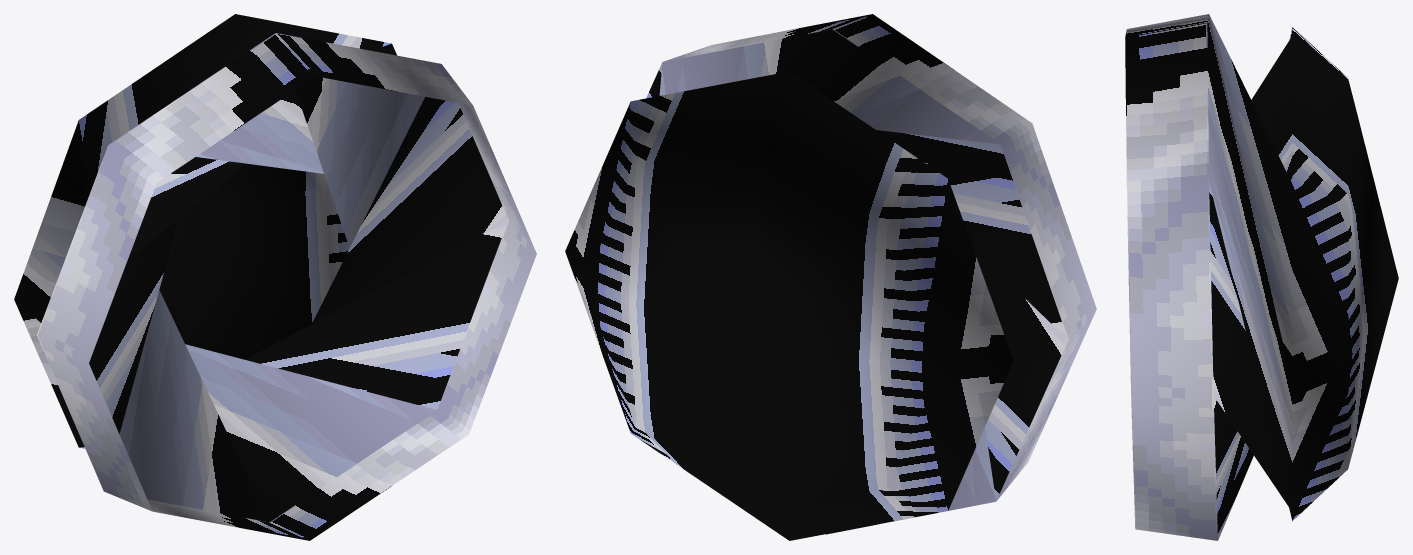
3 renders of one model, left to right at view 1: azimuth 30°, elevation 25°; view 2: azimuth 150°, elevation 25°; view 3: azimuth 270°, elevation 25°, orthographic. The views are drawn at different scales.
Parts seen in each view (by area): view 1: 4830fish40_r; view 2: 4830fish40_r; view 3: 4830fish40_r.
Boxes of the visible parts, x1,y1,x2,y2 form: 4830fish40_r: (14,14,536,540); 4830fish40_r: (565,14,1096,540); 4830fish40_r: (1125,14,1398,540).
Bounding box in the file's own units: 0.5249 × 0.5251 × 0.2562.
1 material, 1 textured.
